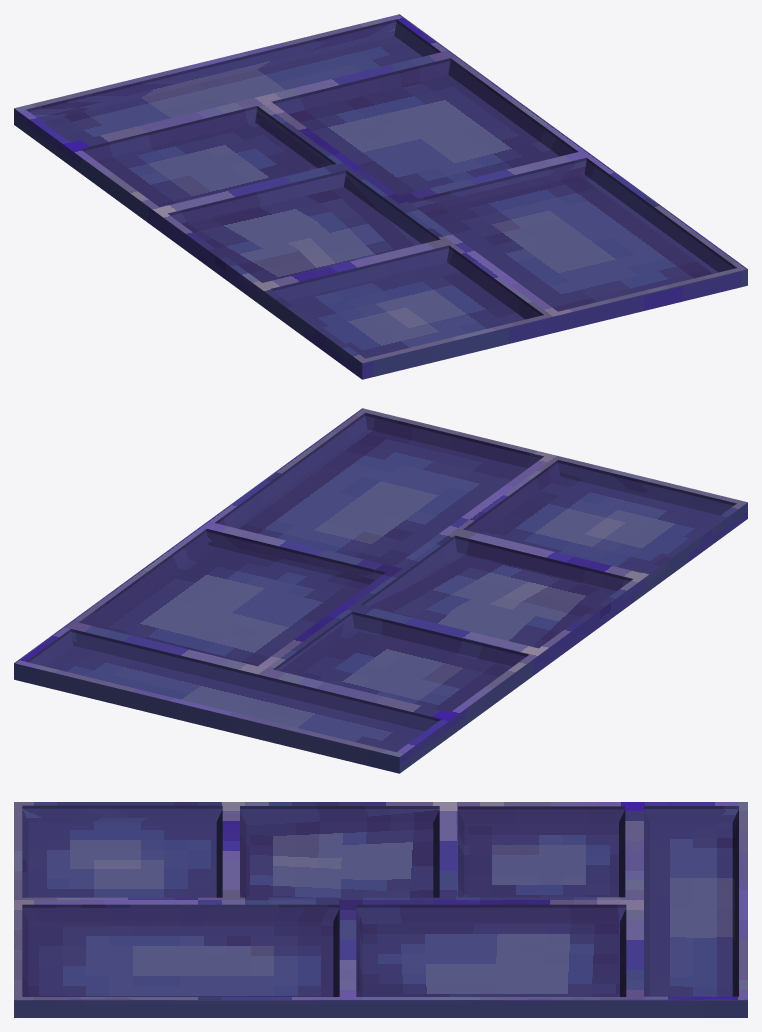
The model's file is Food tray.2.fbx.
3 renders of one model, top to bottom at view 1: azimuth 30°, elevation 25°; view 2: azimuth 150°, elevation 25°; view 3: azimuth 270°, elevation 25°, orthographic. The views are drawn at different scales.
Visible parts, largest first — view 1: Food tray.2; view 2: Food tray.2; view 3: Food tray.2.
Boxes of the visible parts, x1,y1,x2,y2 form: Food tray.2: (14,14,747,379); Food tray.2: (14,408,747,773); Food tray.2: (14,802,747,1017).
Size of the model in its own units: 200 by 8.19 by 313.
Materials: 1 (1 with a texture image).
